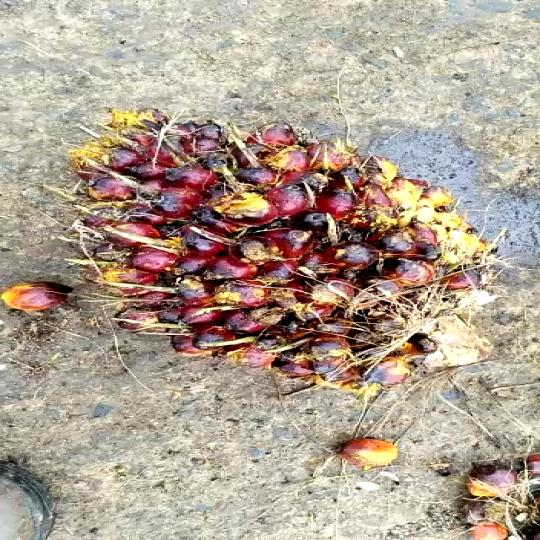kurang masak: (53, 68, 540, 391)
